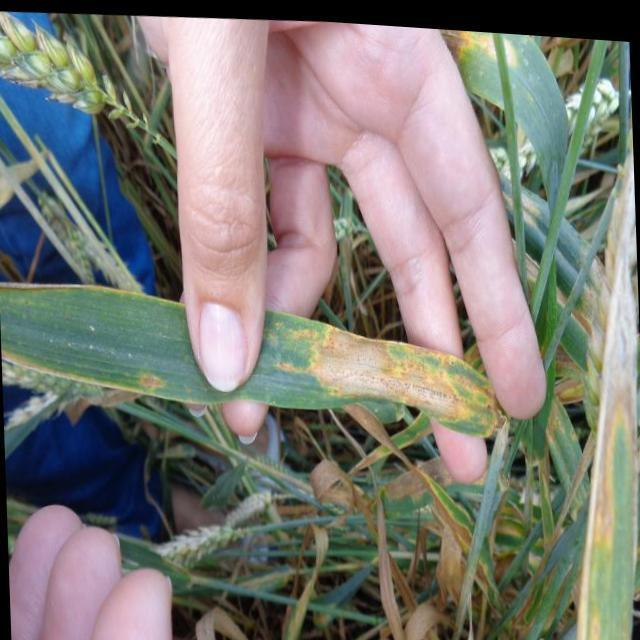Septoria: (0, 281, 508, 431), (575, 31, 639, 639)
